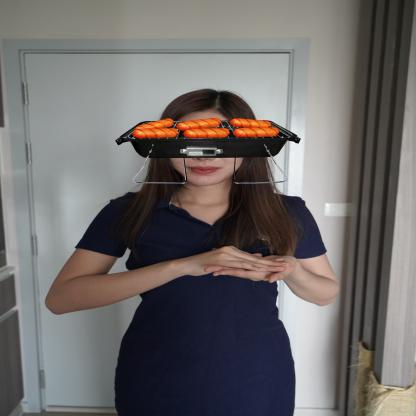Love: (152, 238, 319, 288)
